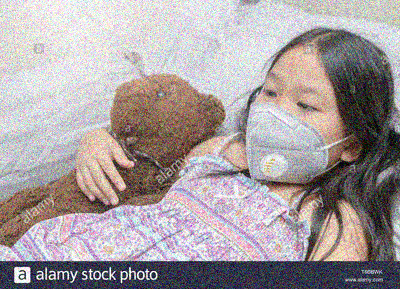with_mask: (244, 70, 348, 183)
